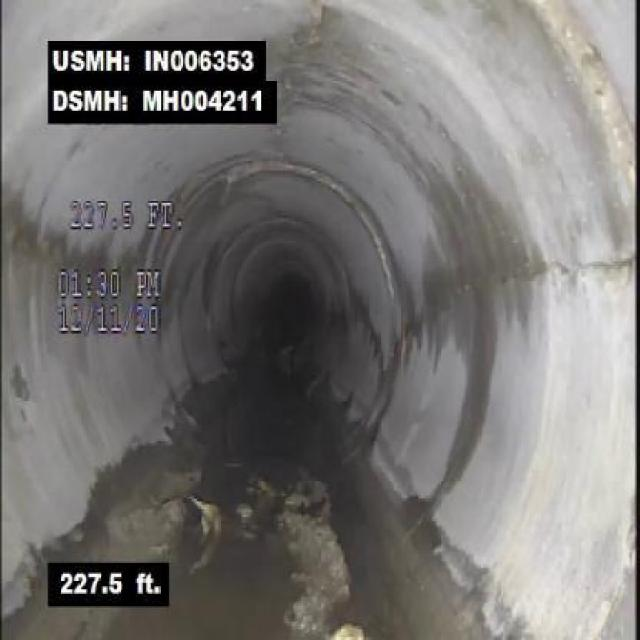Buckling: (283, 2, 328, 92)
Crack: (510, 251, 636, 286)
Debris: (106, 471, 363, 637)
